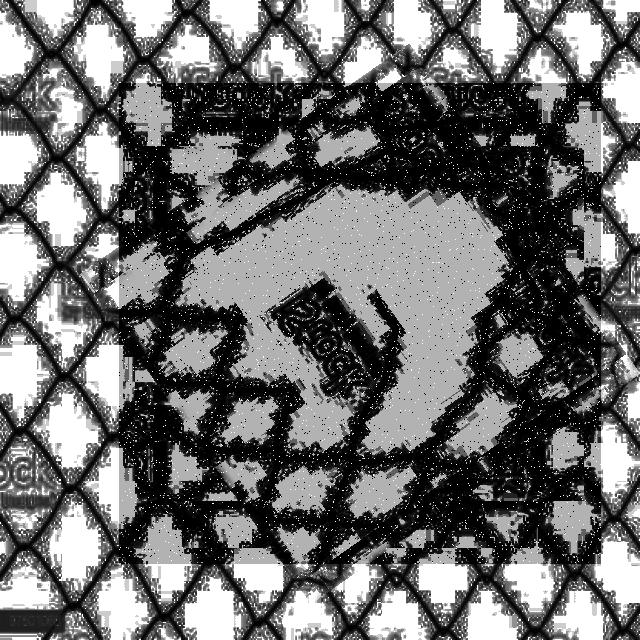anomaly-fence: (119, 83, 601, 564)
